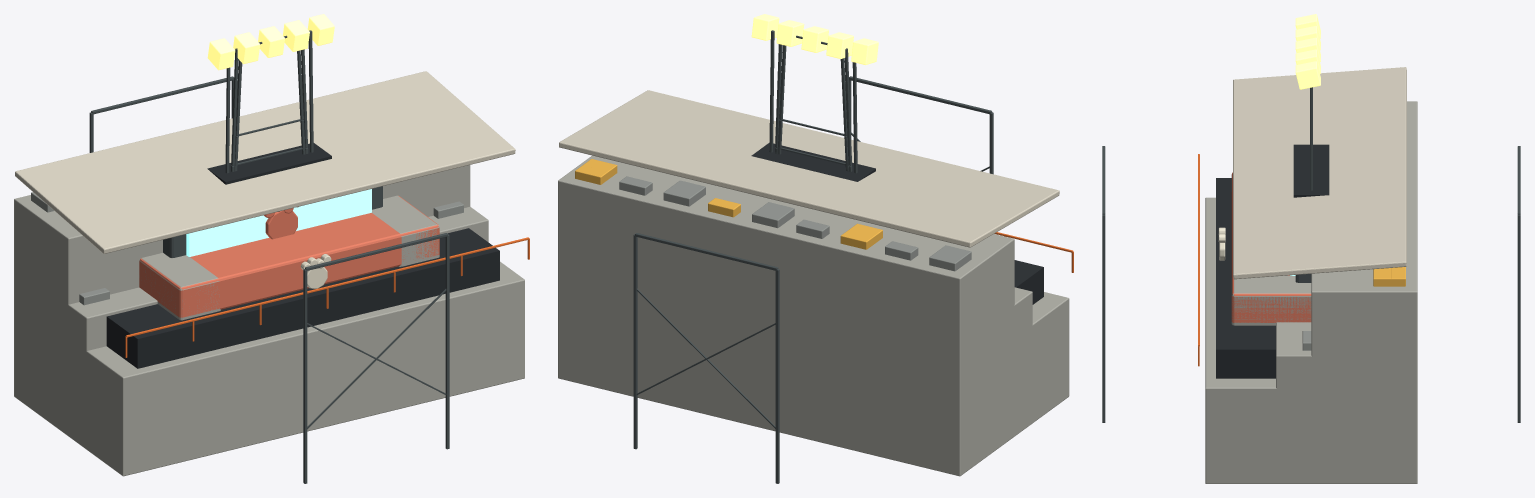
Rendered from kaki-monster-event-kit-v2.glb.
3 renders of one model, left to right at view 1: azimuth 30°, elevation 25°; view 2: azimuth 150°, elevation 25°; view 3: azimuth 270°, elevation 25°, orthographic. The views are drawn at different scales.
Visible parts, largest first — view 1: KR_MONSTER_EVENT_GRANDSTAND_LOD2_KR_MAT_READABLE_CONCRETE, Canopy, KR_MONSTER_EVENT_GRANDSTAND_LOD1_KR_MAT_READABLE_CONCRETE, KR_MONSTER_EVENT_GRANDSTAND_COL_PROXY, Header, KR_MONSTER_EVENT_GRANDSTAND_LOD0_KR_MAT_READABLE_CONCRETE, KR_MONSTER_ENTRY_TUNNEL_LOD0_KR_MAT_READABLE_CONCRETE, KR_MONSTER_EVENT_GRANDSTAND_LOD0_KR_MAT_DARK_STRUCTURE, Display, KR_MONSTER_LIGHT_MAST_LOD0_KR_MAT_WARM_LAMP, KR_MONSTER_EVENT_GRANDSTAND_LOD2_KR_MAT_DARK_STRUCTURE, KR_MONSTER_LIGHT_MAST_COL_PROXY (+8 smaller); view 2: KR_MONSTER_EVENT_GRANDSTAND_LOD0_KR_MAT_READABLE_CONCRETE, Canopy, KR_MONSTER_EVENT_GRANDSTAND_LOD2_KR_MAT_READABLE_CONCRETE, KR_MONSTER_EVENT_GRANDSTAND_LOD1_KR_MAT_READABLE_CONCRETE, KR_MONSTER_EVENT_GRANDSTAND_LOD2_KR_MAT_DARK_STRUCTURE, KR_MONSTER_EVENT_GRANDSTAND_LOD0_KR_MAT_DARK_STRUCTURE, KR_MONSTER_EVENT_GRANDSTAND_LOD0_KR_MAT_WARM_GRAY, KR_MONSTER_LIGHT_MAST_LOD0_KR_MAT_WARM_LAMP, KR_MONSTER_LIGHT_MAST_COL_PROXY, KR_MONSTER_EVENT_GRANDSTAND_LOD0_KR_MAT_KAKI_EVENT_AMBER, KR_MONSTER_LIGHT_MAST_LOD1_KR_MAT_DARK_STRUCTURE, KR_MONSTER_LIGHT_MAST_LOD0_KR_MAT_DARK_STRUCTURE (+4 smaller); view 3: Canopy, KR_MONSTER_EVENT_GRANDSTAND_LOD0_KR_MAT_READABLE_CONCRETE, KR_MONSTER_EVENT_GRANDSTAND_LOD1_KR_MAT_READABLE_CONCRETE, KR_MONSTER_EVENT_GRANDSTAND_LOD2_KR_MAT_READABLE_CONCRETE, KR_MONSTER_EVENT_GRANDSTAND_COL_PROXY, KR_MONSTER_ENTRY_TUNNEL_LOD0_KR_MAT_READABLE_CONCRETE, Header, KR_MONSTER_EVENT_GRANDSTAND_LOD0_KR_MAT_DARK_STRUCTURE, KR_MONSTER_LIGHT_MAST_COL_PROXY, KR_MONSTER_LIGHT_MAST_LOD0_KR_MAT_WARM_LAMP.
Part boxes in pixels (x1=…): KR_MONSTER_EVENT_GRANDSTAND_LOD2_KR_MAT_READABLE_CONCRETE: x1=14, y1=165, x2=524, y2=475; Canopy: x1=15, y1=71, x2=515, y2=253; KR_MONSTER_EVENT_GRANDSTAND_LOD1_KR_MAT_READABLE_CONCRETE: x1=14, y1=199, x2=524, y2=476; KR_MONSTER_EVENT_GRANDSTAND_COL_PROXY: x1=106, y1=228, x2=499, y2=368; Header: x1=139, y1=195, x2=439, y2=317; KR_MONSTER_EVENT_GRANDSTAND_LOD0_KR_MAT_READABLE_CONCRETE: x1=14, y1=200, x2=524, y2=472; KR_MONSTER_ENTRY_TUNNEL_LOD0_KR_MAT_READABLE_CONCRETE: x1=139, y1=195, x2=439, y2=320; KR_MONSTER_EVENT_GRANDSTAND_LOD0_KR_MAT_DARK_STRUCTURE: x1=90, y1=77, x2=449, y2=483; Display: x1=186, y1=189, x2=371, y2=256; KR_MONSTER_LIGHT_MAST_LOD0_KR_MAT_WARM_LAMP: x1=210, y1=14, x2=334, y2=70; KR_MONSTER_EVENT_GRANDSTAND_LOD2_KR_MAT_DARK_STRUCTURE: x1=89, y1=76, x2=449, y2=483; KR_MONSTER_LIGHT_MAST_COL_PROXY: x1=207, y1=143, x2=331, y2=184; KR_MONSTER_EVENT_GRANDSTAND_LOD0_KR_MAT_READABLE_CONCRETE: x1=558, y1=181, x2=1037, y2=476; Canopy: x1=559, y1=90, x2=1059, y2=247; KR_MONSTER_EVENT_GRANDSTAND_LOD2_KR_MAT_READABLE_CONCRETE: x1=558, y1=155, x2=1069, y2=475; KR_MONSTER_EVENT_GRANDSTAND_LOD1_KR_MAT_READABLE_CONCRETE: x1=558, y1=180, x2=1036, y2=473; KR_MONSTER_EVENT_GRANDSTAND_LOD2_KR_MAT_DARK_STRUCTURE: x1=634, y1=76, x2=993, y2=483; KR_MONSTER_EVENT_GRANDSTAND_LOD0_KR_MAT_DARK_STRUCTURE: x1=633, y1=77, x2=993, y2=483; KR_MONSTER_EVENT_GRANDSTAND_LOD0_KR_MAT_WARM_GRAY: x1=619, y1=176, x2=962, y2=271; KR_MONSTER_LIGHT_MAST_LOD0_KR_MAT_WARM_LAMP: x1=751, y1=14, x2=875, y2=65; KR_MONSTER_LIGHT_MAST_COL_PROXY: x1=751, y1=142, x2=875, y2=181; KR_MONSTER_EVENT_GRANDSTAND_LOD0_KR_MAT_KAKI_EVENT_AMBER: x1=575, y1=165, x2=873, y2=249; KR_MONSTER_LIGHT_MAST_LOD1_KR_MAT_DARK_STRUCTURE: x1=775, y1=35, x2=852, y2=171; KR_MONSTER_LIGHT_MAST_LOD0_KR_MAT_DARK_STRUCTURE: x1=777, y1=38, x2=848, y2=171; Canopy: x1=1233, y1=67, x2=1406, y2=279; KR_MONSTER_EVENT_GRANDSTAND_LOD0_KR_MAT_READABLE_CONCRETE: x1=1205, y1=101, x2=1417, y2=483; KR_MONSTER_EVENT_GRANDSTAND_LOD1_KR_MAT_READABLE_CONCRETE: x1=1205, y1=109, x2=1417, y2=483; KR_MONSTER_EVENT_GRANDSTAND_LOD2_KR_MAT_READABLE_CONCRETE: x1=1205, y1=101, x2=1417, y2=483; KR_MONSTER_EVENT_GRANDSTAND_COL_PROXY: x1=1216, y1=178, x2=1275, y2=378; KR_MONSTER_ENTRY_TUNNEL_LOD0_KR_MAT_READABLE_CONCRETE: x1=1231, y1=174, x2=1311, y2=325; Header: x1=1231, y1=172, x2=1311, y2=322; KR_MONSTER_EVENT_GRANDSTAND_LOD0_KR_MAT_DARK_STRUCTURE: x1=1102, y1=146, x2=1520, y2=422; KR_MONSTER_LIGHT_MAST_COL_PROXY: x1=1293, y1=144, x2=1329, y2=197; KR_MONSTER_LIGHT_MAST_LOD0_KR_MAT_WARM_LAMP: x1=1295, y1=15, x2=1320, y2=89.
Bounding box in the file's own units: 17.4 × 14.46 × 15.76.
